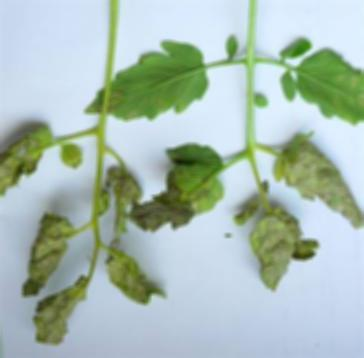Tomato mold leaf: (83, 34, 212, 123), (128, 142, 225, 237), (271, 131, 362, 231), (290, 53, 364, 130), (241, 208, 301, 302)
